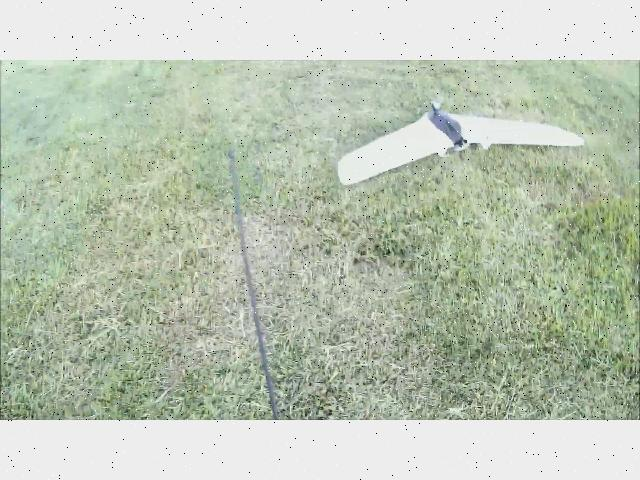Anti-Drone: (310, 89, 606, 190)
